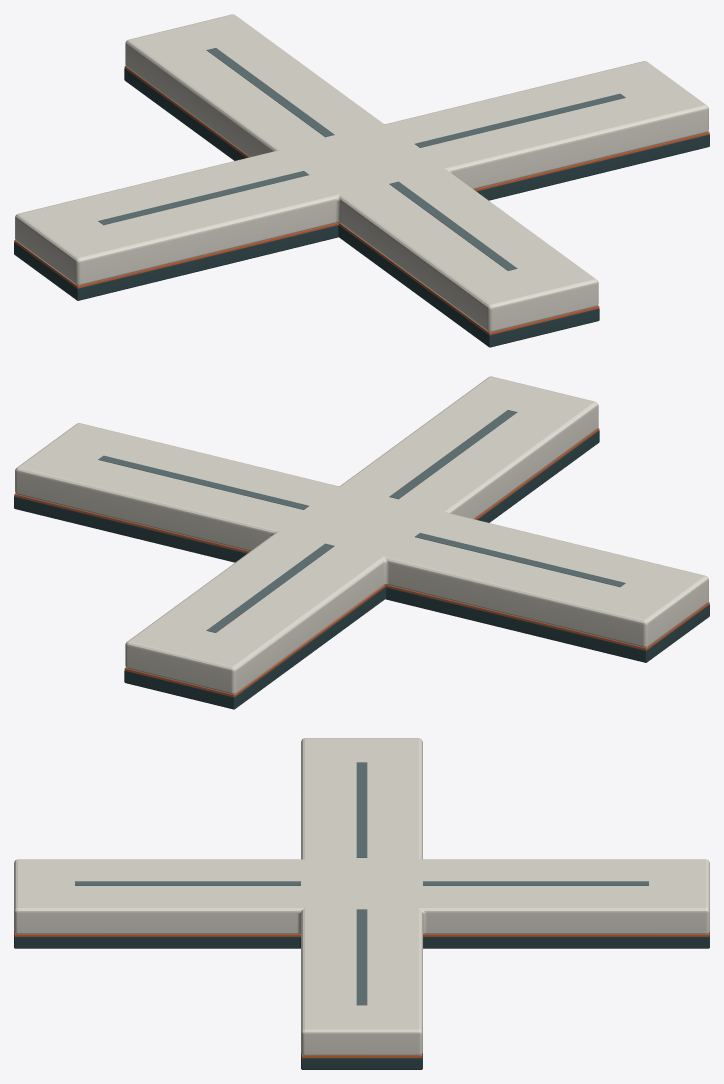
The model's file is water-rush-turntable.glb.
The picture shows the model from 3 angles, top to bottom: view 1: azimuth 30°, elevation 25°; view 2: azimuth 150°, elevation 25°; view 3: azimuth 270°, elevation 25°; orthographic projection. The views are drawn at different scales.
Parts seen in each view (by area): view 1: TurntableVisual; view 2: TurntableVisual; view 3: TurntableVisual.
Boxes of the visible parts, x1=… form: TurntableVisual: x1=14, y1=14, x2=709, y2=347; TurntableVisual: x1=14, y1=376, x2=709, y2=709; TurntableVisual: x1=14, y1=738, x2=709, y2=1069.
Size of the model in its own units: 8 by 0.504 by 8.
